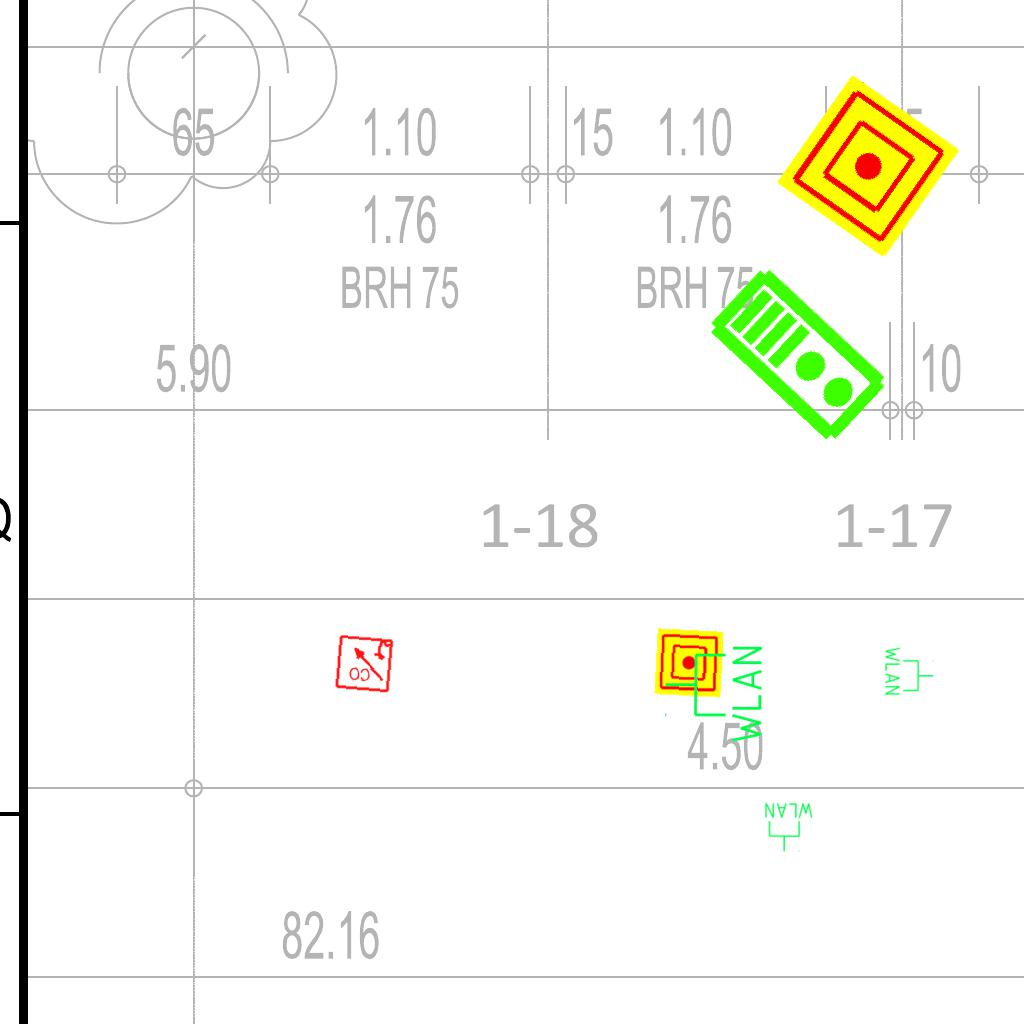Gegensprechanlage_mit_Video: (702, 259, 897, 449)
NAM-Nichtautomatischer_Melder: (776, 74, 960, 258), (654, 628, 724, 698)
ROA_Rauchmelder_optisch_mit_Signalgeber_(Sockelsirene): (333, 632, 395, 694)
WLAN: (662, 642, 766, 747), (883, 645, 935, 697), (763, 801, 815, 853)
